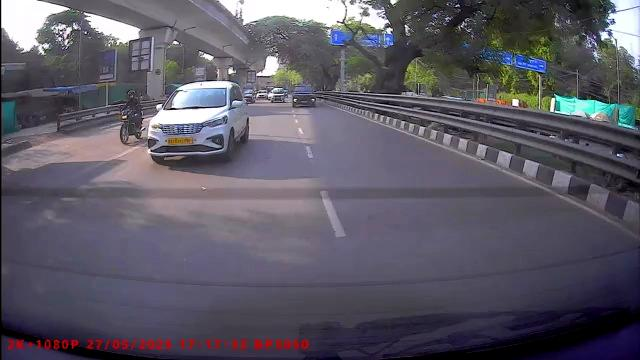motorcycle_with_helmet: (117, 87, 145, 146)
